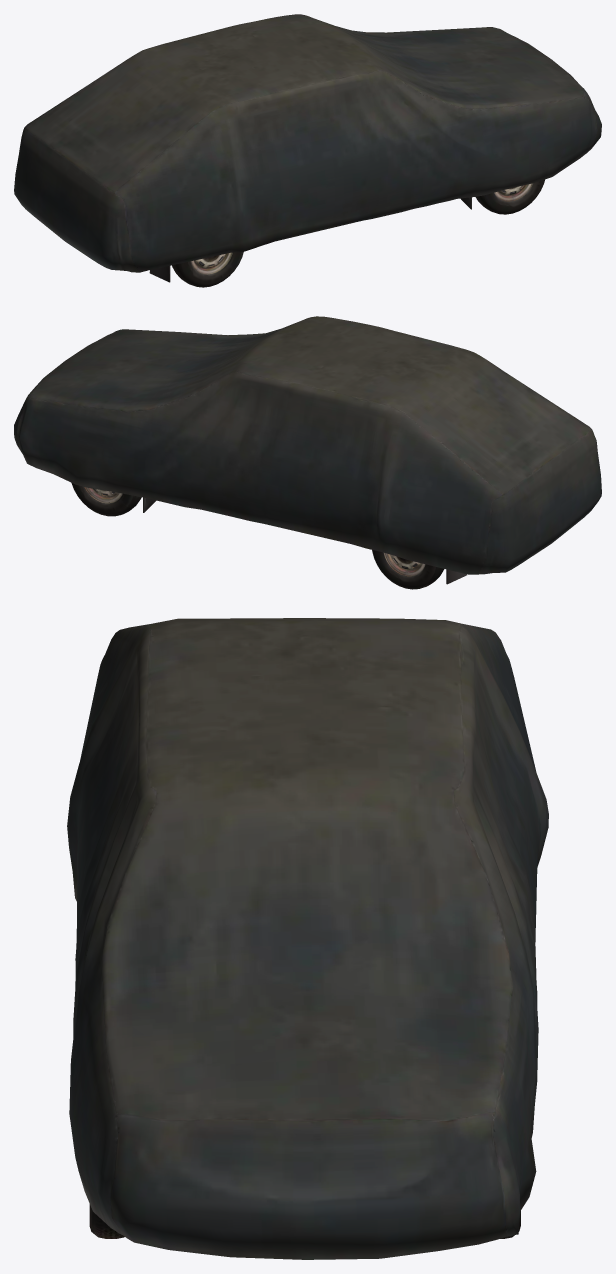
Rendered from car_covered.gltf.
3 renders of one model, top to bottom at view 1: azimuth 30°, elevation 25°; view 2: azimuth 150°, elevation 25°; view 3: azimuth 270°, elevation 25°, orthographic. The views are drawn at different scales.
Visible parts, largest first — view 1: covered_car; view 2: covered_car; view 3: covered_car.
Boxes of the visible parts, <box> form: covered_car: <box>14,14,601,287</box>; covered_car: <box>14,316,601,589</box>; covered_car: <box>67,618,548,1259</box>.
Bounding box in the file's own units: 3.47 × 1.12 × 1.42.
1 material, 1 textured.
